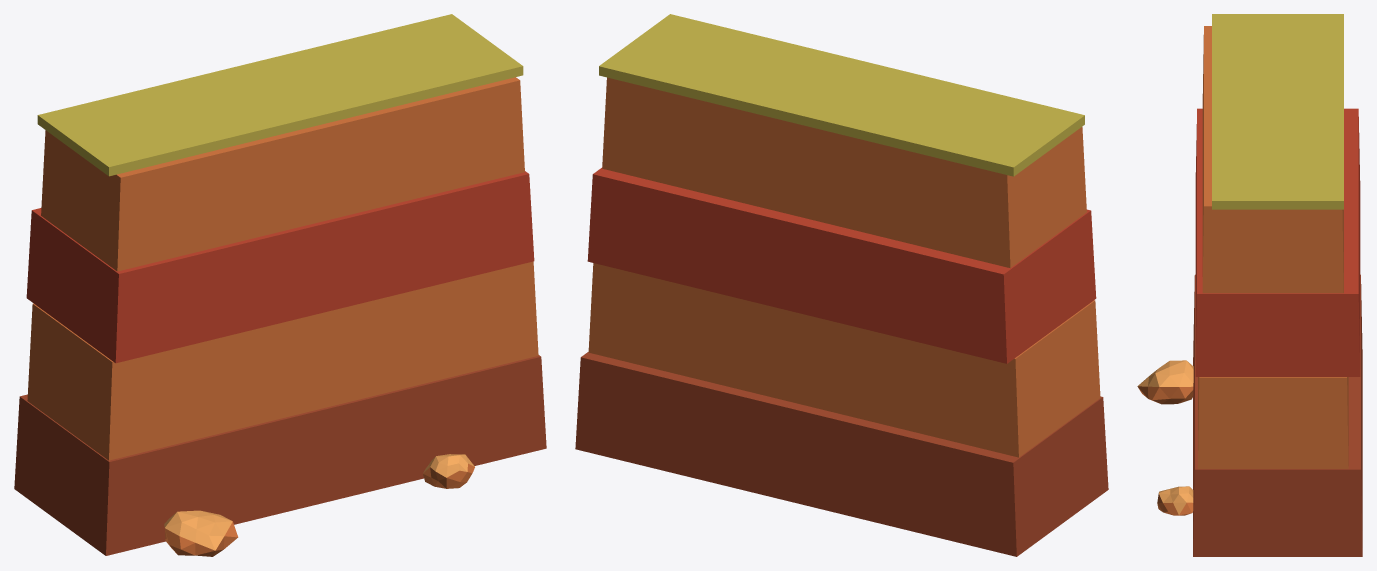
File: CA_Pared_Canon_Recta.obj
3 views of the same model, side by side, from view 1: azimuth 30°, elevation 25°; view 2: azimuth 150°, elevation 25°; view 3: azimuth 270°, elevation 25° (orthographic). The views are drawn at different scales.
Visible parts, largest first — view 1: CA_Pared_Canon_Recta; view 2: CA_Pared_Canon_Recta; view 3: CA_Pared_Canon_Recta.
Part boxes in pixels (x1,y1,x2,y2): CA_Pared_Canon_Recta: [14, 14, 546, 556]; CA_Pared_Canon_Recta: [575, 14, 1108, 556]; CA_Pared_Canon_Recta: [1137, 14, 1362, 556].
Bounding box in the file's own units: 10 × 8.2 × 4.79.
